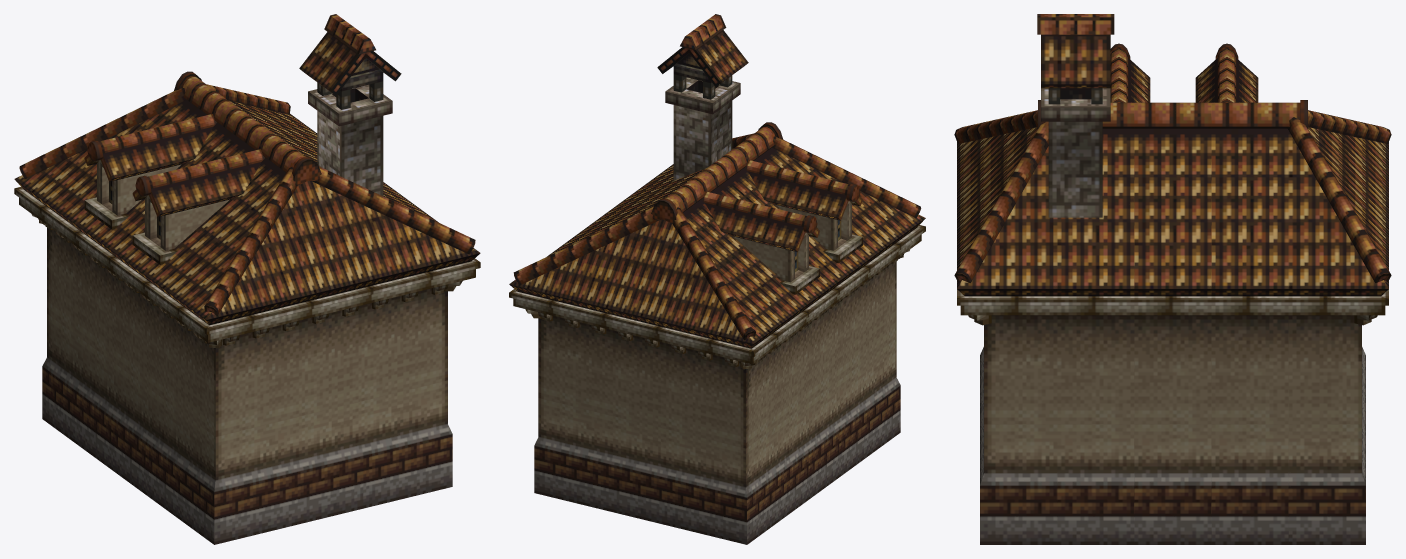
The model's file is EnvBdgMD_Sea_A_Outdoor_House_B.FBX.
3 renders of one model, left to right at view 1: azimuth 30°, elevation 25°; view 2: azimuth 150°, elevation 25°; view 3: azimuth 270°, elevation 25°, orthographic. The views are drawn at different scales.
Visible parts, largest first — view 1: EnvBdgMD_Sea_A_Outdoor_House_B; view 2: EnvBdgMD_Sea_A_Outdoor_House_B; view 3: EnvBdgMD_Sea_A_Outdoor_House_B.
Boxes of the visible parts, x1,y1,x2,y2 form: EnvBdgMD_Sea_A_Outdoor_House_B: [14, 14, 480, 544]; EnvBdgMD_Sea_A_Outdoor_House_B: [509, 14, 925, 544]; EnvBdgMD_Sea_A_Outdoor_House_B: [954, 14, 1391, 544].
Bounding box in the file's own units: 460 × 710 × 567.
2 materials, 2 textured.
